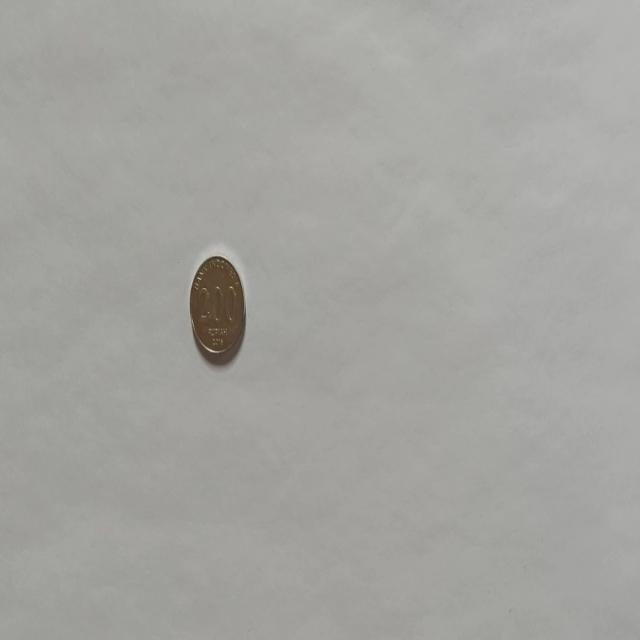dua ratus rupiah: (188, 252, 246, 360)
